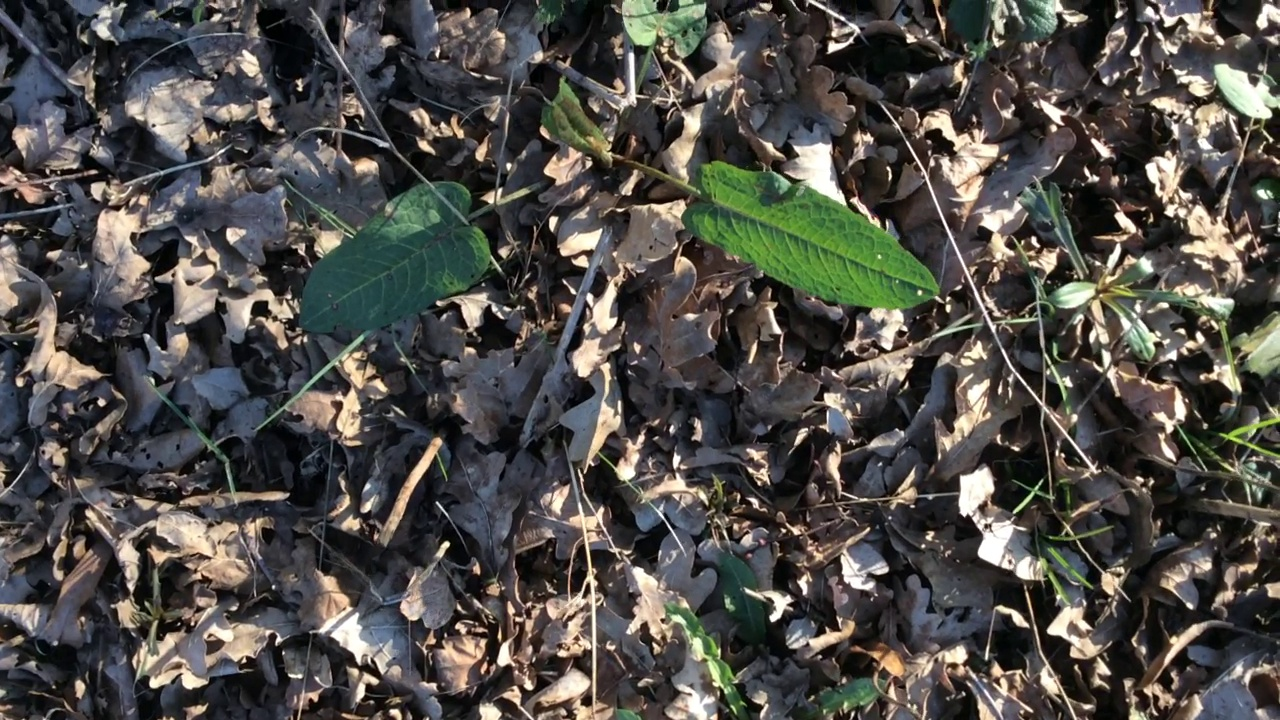rumex: (298, 1, 941, 335)
